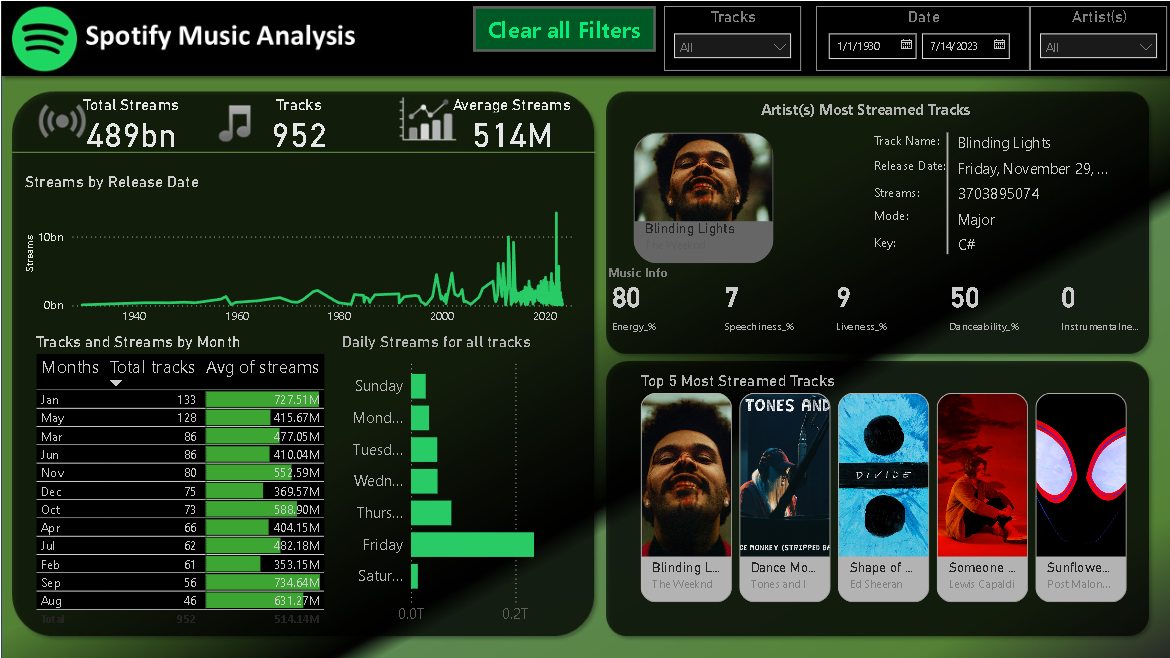

The page's visual inventory and layout, read from the dashboard file:
{"tool":"powerbi","page":{"name":"Page 1","canvas":[1440,820],"ordinal":0},"visuals":[{"type":"card","title":"Total Streams","fields":{"Values":["Sum(Spotify Dataset.streams)"]},"box":[148.8,151,146.6,63.5],"z":0},{"type":"card","title":"Tracks","fields":{"Values":["CountNonNull(Spotify Dataset.track_name)"]},"box":[332.6,151,146.6,63.5],"z":1000},{"type":"card","title":"Average Streams","fields":{"Values":["Avg(Spotify Dataset.streams)"]},"box":[558.1,151,161.9,63.5],"z":2000},{"type":"lineChart","title":"Streams by Release Date","fields":{"Category":["CALENDAR.Date"],"Y":["Sum(Spotify Dataset.streams)"]},"box":[100.7,235.3,610.6,175.1],"z":3000},{"type":"tableEx","title":"Tracks and Streams by Month","fields":{"Values":["CALENDAR.MonthName","Spotify Dataset.track_name","Avg(Spotify Dataset.streams)"]},"box":[112.7,410.3,334.8,329.4],"z":4000},{"type":"clusteredBarChart","title":"Daily Streams for all tracks","fields":{"Y":["Sum(Spotify Dataset.streams)"],"Category":["CALENDAR.DayName"]},"box":[447.5,410.3,272.5,329.4],"z":5000},{"type":"textbox","box":[906,151,281.2,36.1],"z":6000},{"type":"advancedSlicerVisual","fields":{"Values":["Spotify Dataset.track_name"]},"box":[767.1,187.1,163,153.2],"z":7000},{"type":"multiRowCard","fields":{"Values":["Spotify Dataset.track_name","Spotify Dataset.Date","Sum(Spotify Dataset.streams)","Spotify Dataset.mode","Spotify Dataset.key"]},"box":[1109.5,187.1,192.6,160.9],"z":8000},{"type":"textbox","box":[1029.7,214.5,91.9,29.5],"z":9000},{"type":"textbox","box":[1029.7,244,91.9,29.5],"z":10000},{"type":"textbox","box":[1029.7,269.2,91.9,29.5],"z":11000},{"type":"textbox","box":[1029.7,298.7,91.9,29.5],"z":12000},{"type":"textbox","box":[1029.7,187.1,91.9,29.5],"z":13000},{"type":"cardVisual","fields":{"Data":["Sum(Spotify Dataset.energy_%)","Sum(Spotify Dataset.speechiness_%)","Sum(Spotify Dataset.liveness_%)","Sum(Spotify Dataset.danceability_%)","Sum(Spotify Dataset.instrumentalness_%)"]},"box":[730.9,340.3,619.3,85.3],"z":14000},{"type":"textbox","box":[739.7,331.6,281.2,31.7],"z":15000},{"type":"advancedSlicerVisual","title":"Top 5 Most Streamed Tracks","fields":{"Values":["Spotify Dataset.track_name"]},"box":[774.7,453,543.8,258.2],"z":16000},{"type":"slicer","title":"Date","fields":{"Values":["CALENDAR.Date"]},"box":[971.7,53.6,234.2,71.1],"z":17000},{"type":"slicer","title":"Tracks","fields":{"Values":["Spotify Dataset.track_name"]},"box":[805.3,53.6,149.9,71.1],"z":18000},{"type":"slicer","title":"Artist(s)","fields":{"Values":["Spotify Dataset.artist(s)_name"]},"box":[1205.8,53.6,149.9,71.1],"z":19000}]}

Visuals, with their boxes in screenshot pixels (x1, y1, x2, y2), scaled from the page's 1440x820 canvas onto the 1170x658 screenshot:
"Total Streams" card: [121, 121, 240, 172]
"Tracks" card: [270, 121, 389, 172]
"Average Streams" card: [453, 121, 585, 172]
"Streams by Release Date" lineChart: [82, 189, 578, 329]
"Tracks and Streams by Month" tableEx: [92, 329, 364, 594]
"Daily Streams for all tracks" clusteredBarChart: [364, 329, 585, 594]
textbox: [736, 121, 965, 150]
advancedSlicerVisual - Spotify Dataset.track_name: [623, 150, 756, 273]
multiRowCard - Spotify Dataset.track_name x Spotify Dataset.Date: [901, 150, 1058, 279]
textbox: [837, 172, 911, 196]
textbox: [837, 196, 911, 219]
textbox: [837, 216, 911, 240]
textbox: [837, 240, 911, 263]
textbox: [837, 150, 911, 174]
cardVisual - Sum(Spotify Dataset.energy_%) x Sum(Spotify Dataset.speechiness_%): [594, 273, 1097, 342]
textbox: [601, 266, 829, 292]
"Top 5 Most Streamed Tracks" advancedSlicerVisual: [629, 364, 1071, 571]
"Date" slicer: [790, 43, 980, 100]
"Tracks" slicer: [654, 43, 776, 100]
"Artist(s)" slicer: [980, 43, 1102, 100]
